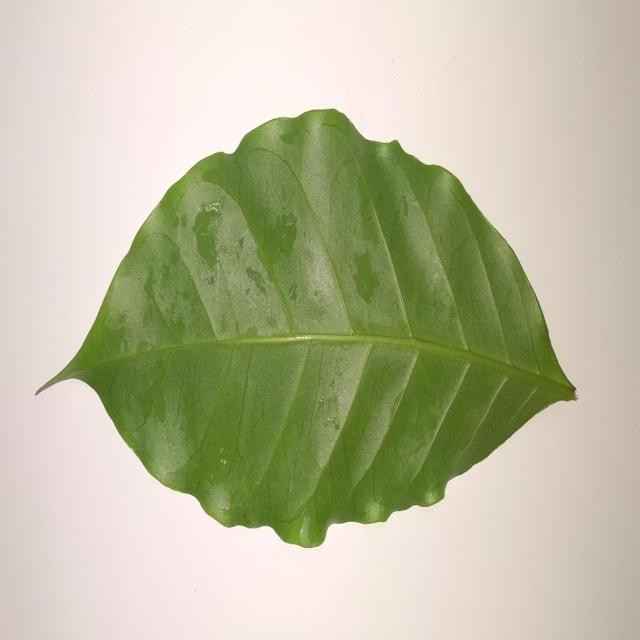Sanas: (39, 109, 579, 552)
